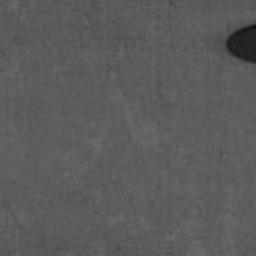Punching: (225, 24, 256, 65)
